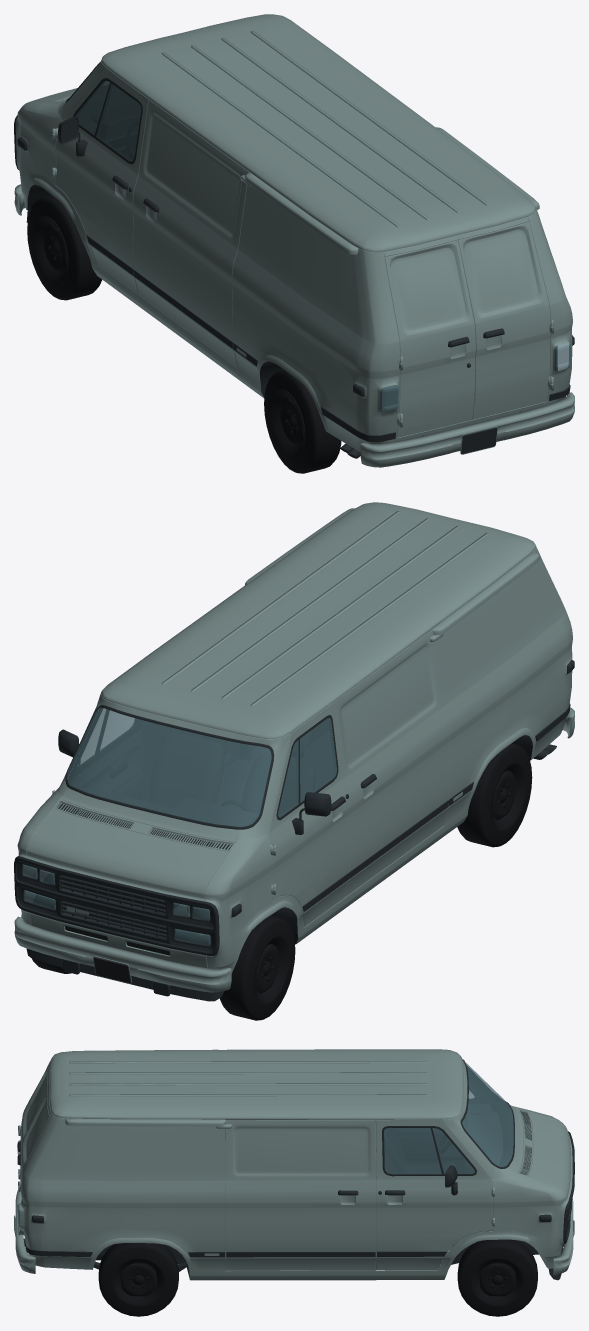
File: shvan.glb
The picture shows the model from 3 angles, top to bottom: view 1: azimuth 30°, elevation 25°; view 2: azimuth 150°, elevation 25°; view 3: azimuth 270°, elevation 25°; orthographic projection. The views are drawn at different scales.
Visible parts, largest first — view 1: Shvan92_Body, Shvan92_Bottom, Shvan92_WheelStock_RL, Shvan92_WheelStock_FL, Shvan92_Bumper_rear, Shvan92_Interior, Shvan92_Glass_Driver, Shvan92_Body_glass, Shvan92_Numberplate_rear; view 2: Shvan92_Body, Shvan92_Bottom, Shvan92_Interior, Shvan92_Windshield, Shvan92_Hood, Shvan92_WheelStock_FL, Shvan92_Bumper_front, Shvan92_WheelStock_RL, Shvan92_Glass_Driver, Shvan92_Headlights_Glass, Shvan92_Body_glass; view 3: Shvan92_Body, Shvan92_Interior, Shvan92_Bottom, Shvan92_WheelStock_FR, Shvan92_WheelStock_RL, Shvan92_Windshield, Shvan92_Hood, Shvan92_Glass_Passanger, Shvan92_Body_glass, Shvan92_Bumper_rear, Shvan92_Bumper_front.
Part boxes in pixels (x1,y1,x2,y2): Shvan92_Body: (16,14,572,451); Shvan92_Bottom: (14,61,574,458); Shvan92_WheelStock_RL: (264,369,341,473); Shvan92_WheelStock_FL: (27,195,101,300); Shvan92_Bumper_rear: (360,392,574,467); Shvan92_Interior: (75,81,557,412); Shvan92_Glass_Driver: (96,83,141,161); Shvan92_Body_glass: (75,80,109,135); Shvan92_Numberplate_rear: (461,427,497,454); Shvan92_Body: (17,502,572,973); Shvan92_Bottom: (14,659,574,1001); Shvan92_Interior: (67,708,336,826); Shvan92_Windshield: (67,707,271,826); Shvan92_Hood: (26,808,228,900); Shvan92_WheelStock_FL: (220,915,295,1020); Shvan92_Bumper_front: (14,916,231,992); Shvan92_WheelStock_RL: (457,743,532,847); Shvan92_Glass_Driver: (300,717,336,802); Shvan92_Headlights_Glass: (23,864,210,945); Shvan92_Body_glass: (278,740,298,817); Shvan92_Body: (18,1049,568,1280); Shvan92_Interior: (225,1066,513,1174); Shvan92_Bottom: (17,1059,574,1280); Shvan92_WheelStock_FR: (457,1239,537,1316); Shvan92_WheelStock_RL: (98,1243,178,1316); Shvan92_Windshield: (462,1062,513,1166); Shvan92_Hood: (528,1112,572,1199); Shvan92_Glass_Passanger: (384,1127,441,1174); Shvan92_Body_glass: (432,1128,474,1174); Shvan92_Bumper_rear: (14,1189,35,1273); Shvan92_Bumper_front: (553,1198,574,1274).
Size of the model in its own units: 2.07 by 1.92 by 4.9.
